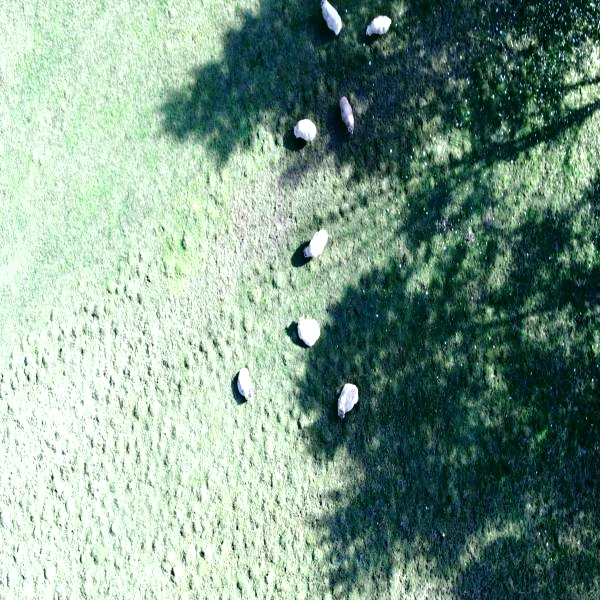sheep: (287, 90, 319, 155), (360, 0, 402, 49), (336, 371, 366, 427), (297, 211, 329, 262), (232, 349, 257, 408), (313, 0, 347, 41), (294, 303, 324, 349), (334, 92, 363, 139)
